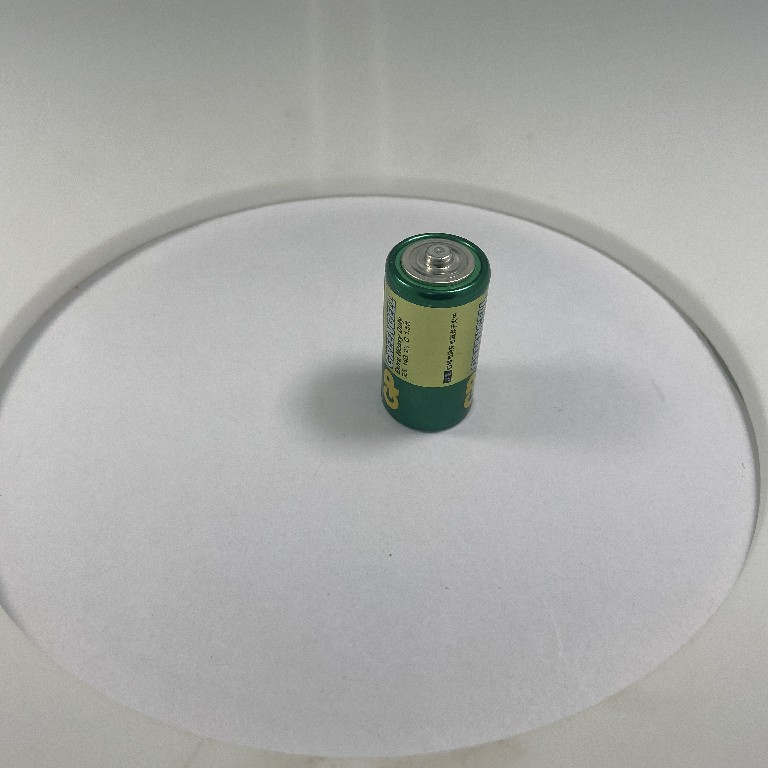charge: (376, 228, 494, 435)
